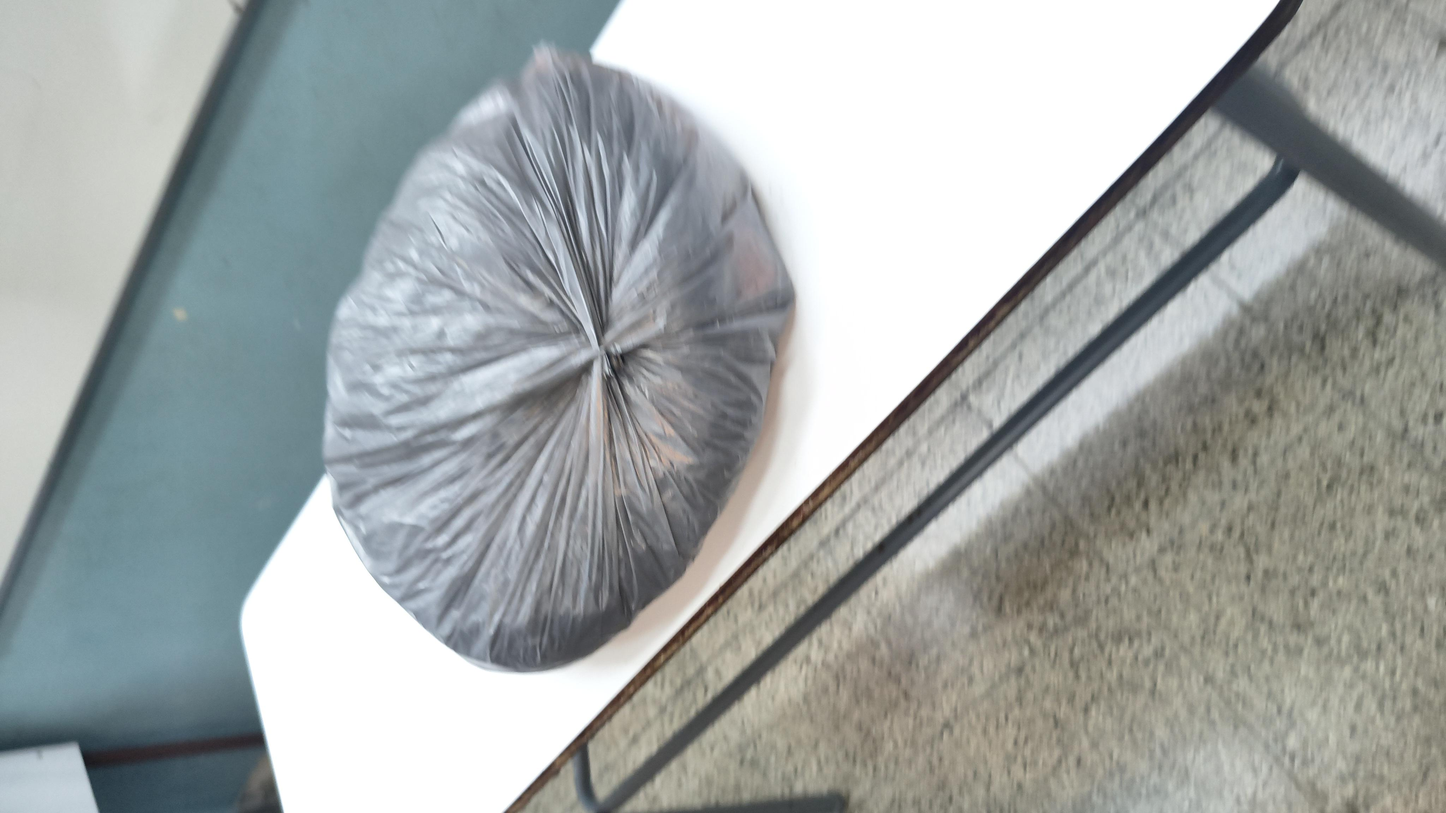Garbage: (201, 139, 1446, 468)
